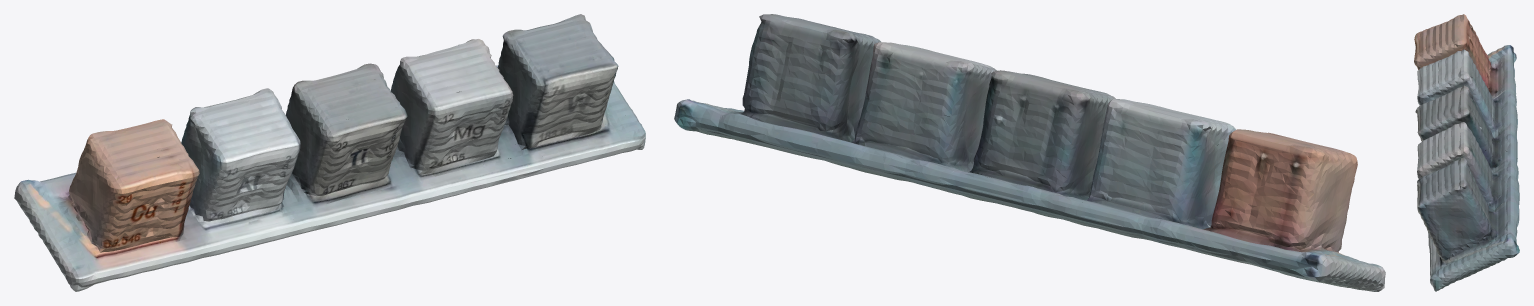
Rendered from elemental-cube-set.glb.
The picture shows the model from 3 angles, left to right: view 1: azimuth 30°, elevation 25°; view 2: azimuth 150°, elevation 25°; view 3: azimuth 270°, elevation 25°; orthographic projection. The views are drawn at different scales.
Parts seen in each view (by area): view 1: geometry_0; view 2: geometry_0; view 3: geometry_0.
Part boxes in pixels (x1,y1,x2,y2): geometry_0: [14, 14, 645, 291]; geometry_0: [674, 14, 1385, 291]; geometry_0: [1414, 14, 1519, 291].
Size of the model in its own units: 1.05 by 0.2311 by 0.2315.
1 material, 1 textured.
